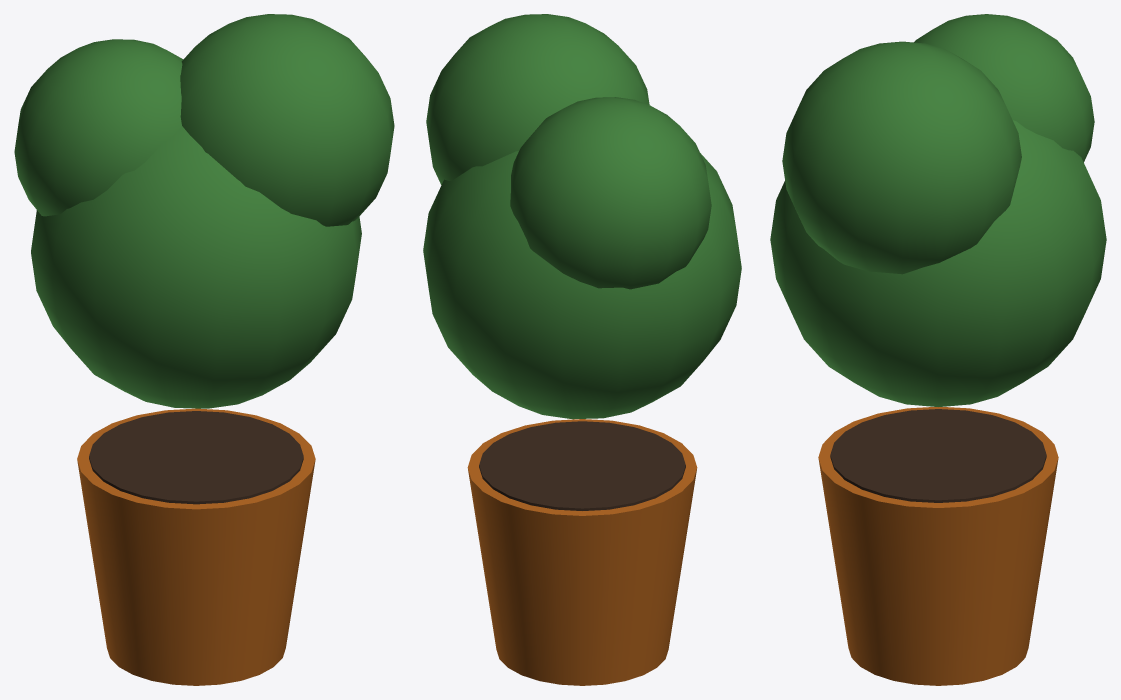
Rendered from planta.glb.
The picture shows the model from 3 angles, left to right: view 1: azimuth 30°, elevation 25°; view 2: azimuth 150°, elevation 25°; view 3: azimuth 270°, elevation 25°; orthographic projection. The views are drawn at different scales.
Visible parts, largest first — view 1: Planta; view 2: Planta; view 3: Planta.
Part boxes in pixels (x1,y1,x2,y2): Planta: (14, 14, 394, 685); Planta: (423, 14, 741, 685); Planta: (770, 14, 1106, 685).
Bounding box in the file's own units: 60 × 115 × 56.
